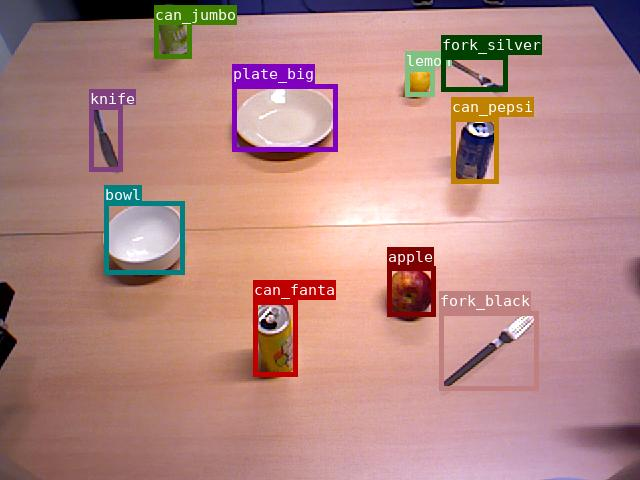apple: (387, 266, 435, 316)
bowl: (104, 201, 184, 274)
can_fanta: (253, 300, 297, 376)
can_jumbo: (154, 5, 191, 58)
can_pepsi: (451, 117, 498, 183)
fork_black: (439, 311, 538, 390)
fork_silver: (441, 55, 507, 91)
knife: (89, 105, 122, 171)
lemon: (405, 67, 434, 96)
plate_big: (232, 84, 337, 151)
